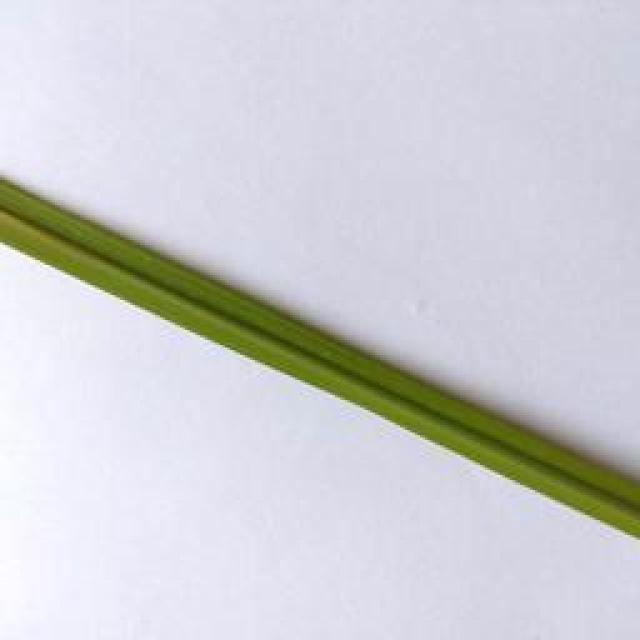Healthy-Plant: (0, 164, 640, 552)
